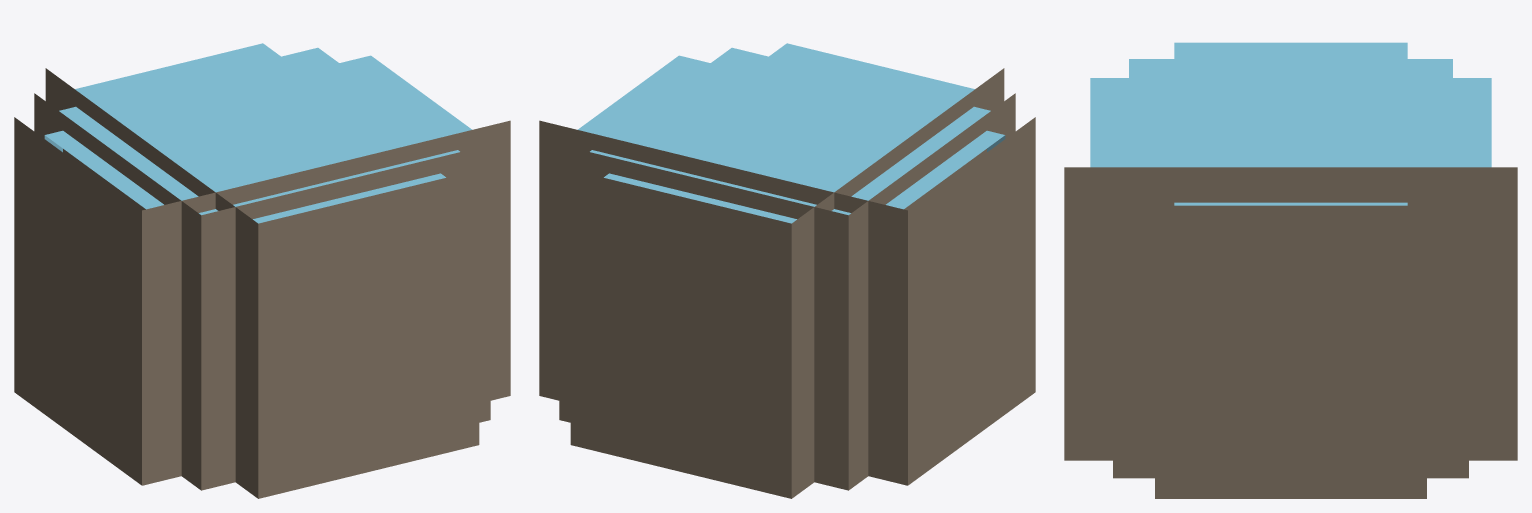
The model's file is hot_tub.glb.
3 views of the same model, side by side, from view 1: azimuth 30°, elevation 25°; view 2: azimuth 150°, elevation 25°; view 3: azimuth 270°, elevation 25° (orthographic). The views are drawn at different scales.
Bounding box in the file's own units: 1.4 × 1 × 1.4.
